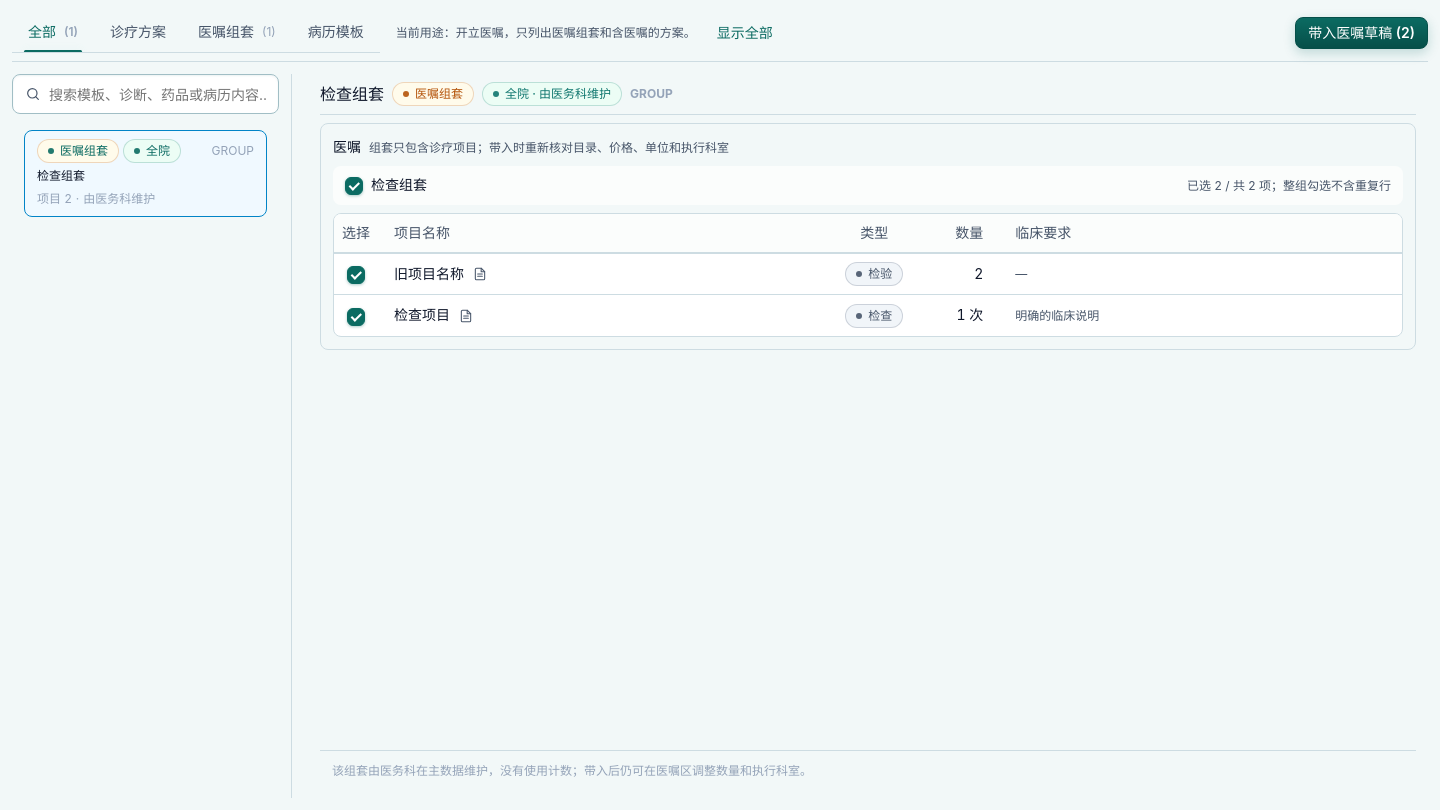
order rows: duplicates, whole-group selection, validation failures › brings valid group members, skips a failing member with its reason and locks the row
Click the button "带入医嘱草稿 (2)" at (1362, 32), box 1295,16 -> 1428,48
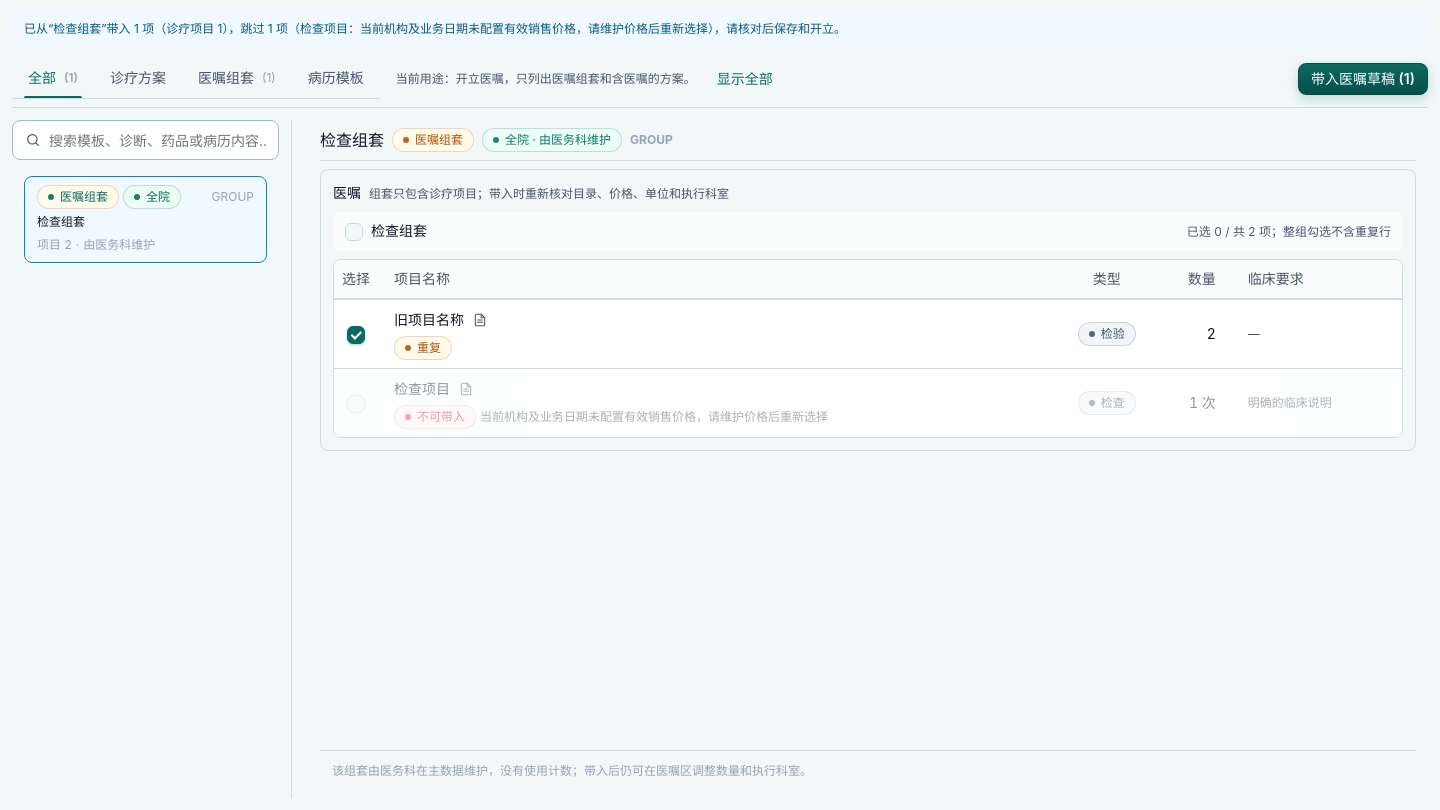
Check: the text "不可带入" is shown, box 394,405 -> 476,429
